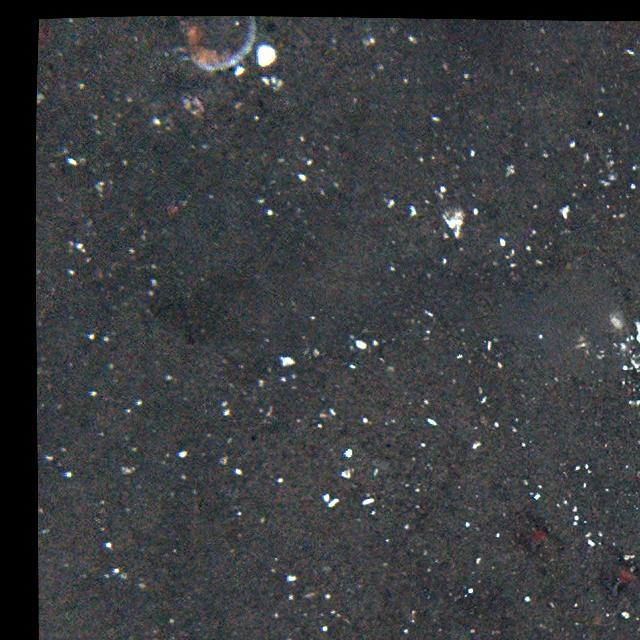scallop: (178, 12, 261, 74)
